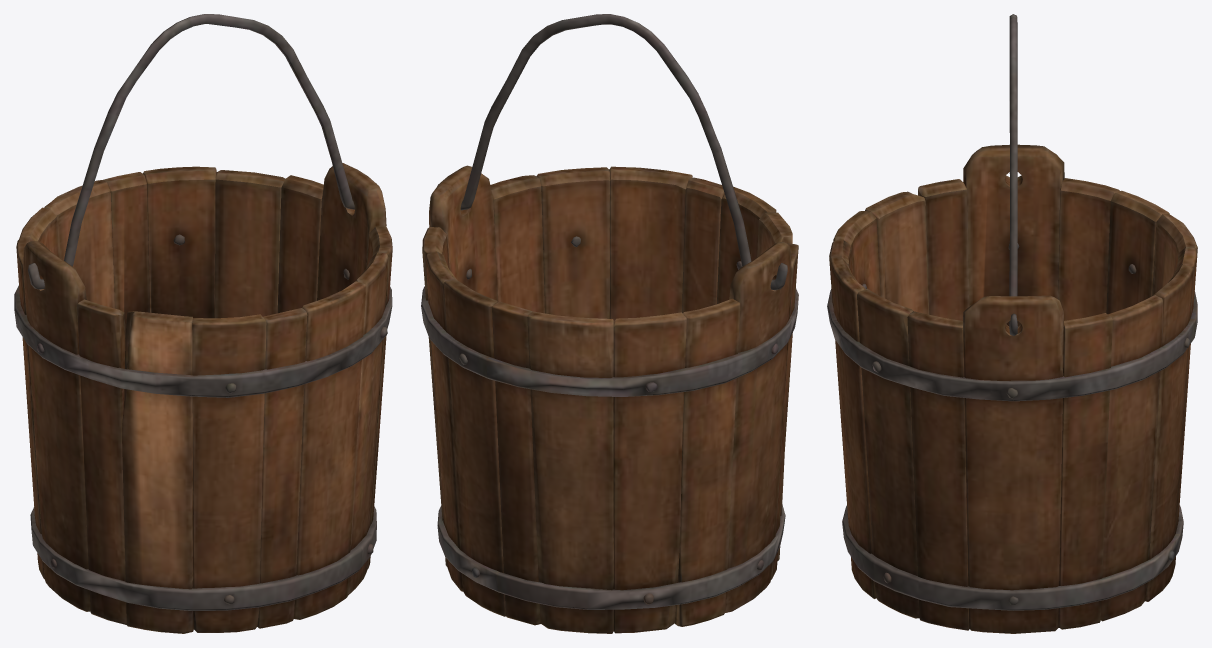
The model's file is wooden_bucket_01.glb.
The picture shows the model from 3 angles, left to right: view 1: azimuth 30°, elevation 25°; view 2: azimuth 150°, elevation 25°; view 3: azimuth 270°, elevation 25°; orthographic projection.
Parts seen in each view (by area): view 1: wooden_bucket_01, wooden_bucket_01_handle; view 2: wooden_bucket_01, wooden_bucket_01_handle; view 3: wooden_bucket_01, wooden_bucket_01_handle.
Part boxes in pixels (x1=…): wooden_bucket_01: x1=14, y1=163, x2=392, y2=633; wooden_bucket_01_handle: x1=28, y1=14, x2=376, y2=289; wooden_bucket_01: x1=421, y1=165, x2=798, y2=633; wooden_bucket_01_handle: x1=437, y1=14, x2=787, y2=290; wooden_bucket_01: x1=827, y1=144, x2=1197, y2=633; wooden_bucket_01_handle: x1=1009, y1=14, x2=1017, y2=335.
Bounding box in the file's own units: 0.367 × 0.5499 × 0.3419.
1 material, 1 textured.
